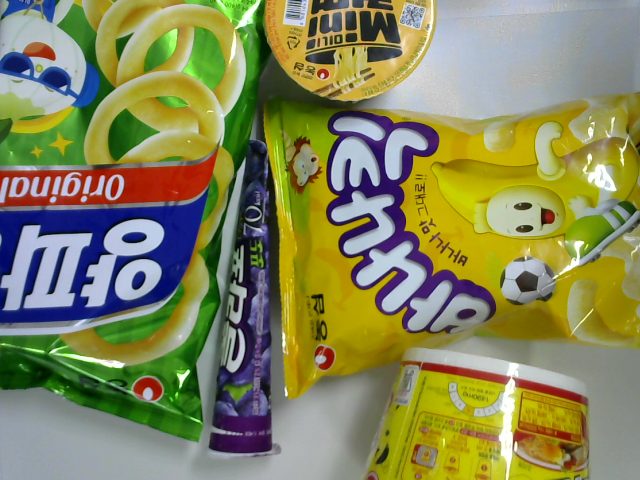Banana_Kick: (266, 89, 640, 402)
Hejangmini: (263, 1, 439, 108)
Jinlamyeon_Hot_Taste_Large_Cup: (355, 340, 595, 480)
Oninon_Ring: (1, 1, 275, 444)
Polapo_Grape: (204, 136, 283, 459)
